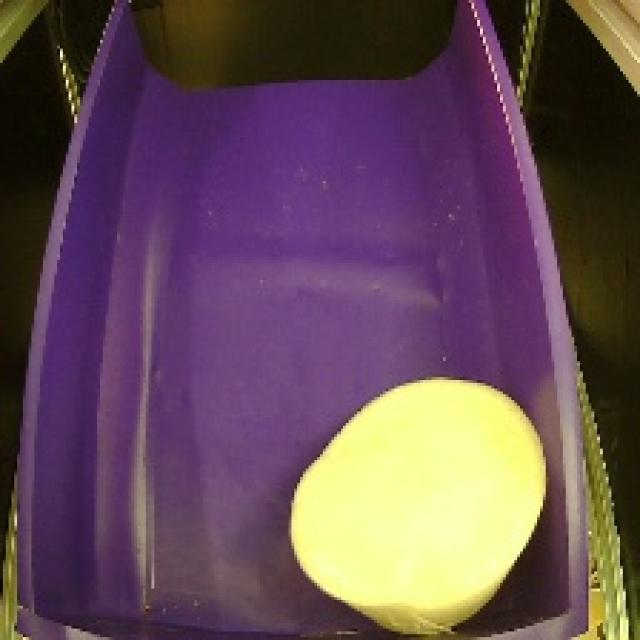white_radish: (275, 348, 572, 640)
